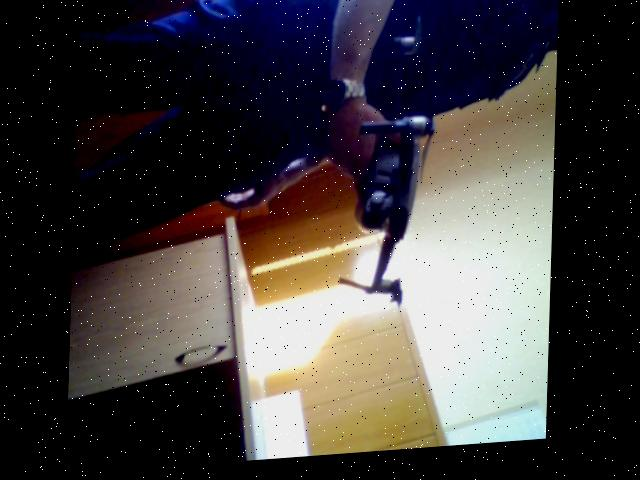drone: (333, 5, 448, 329)
